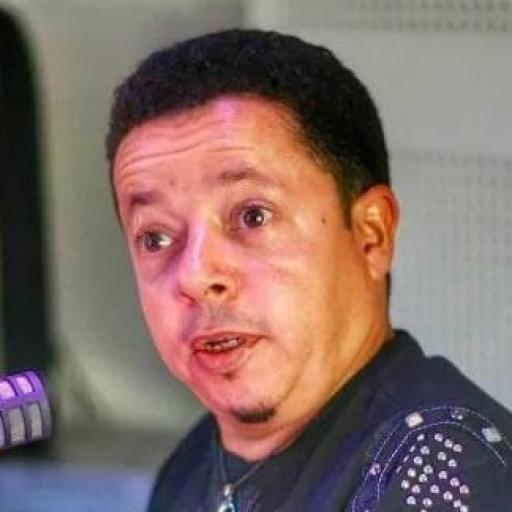fouchika: (113, 97, 398, 444)
